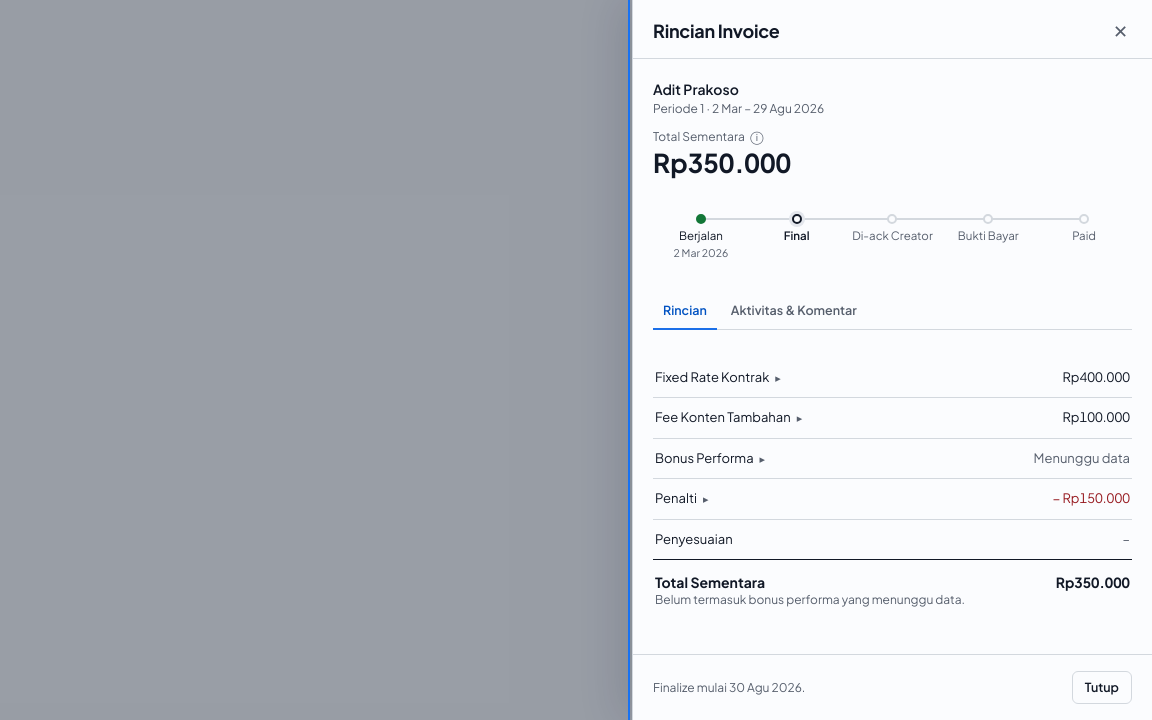
Scenario: InvoiceRincian › says a running invoice has no activity yet, above its thread
Click the tab "Aktivitas & Komentar" at (794,312), box [721,293,867,330]
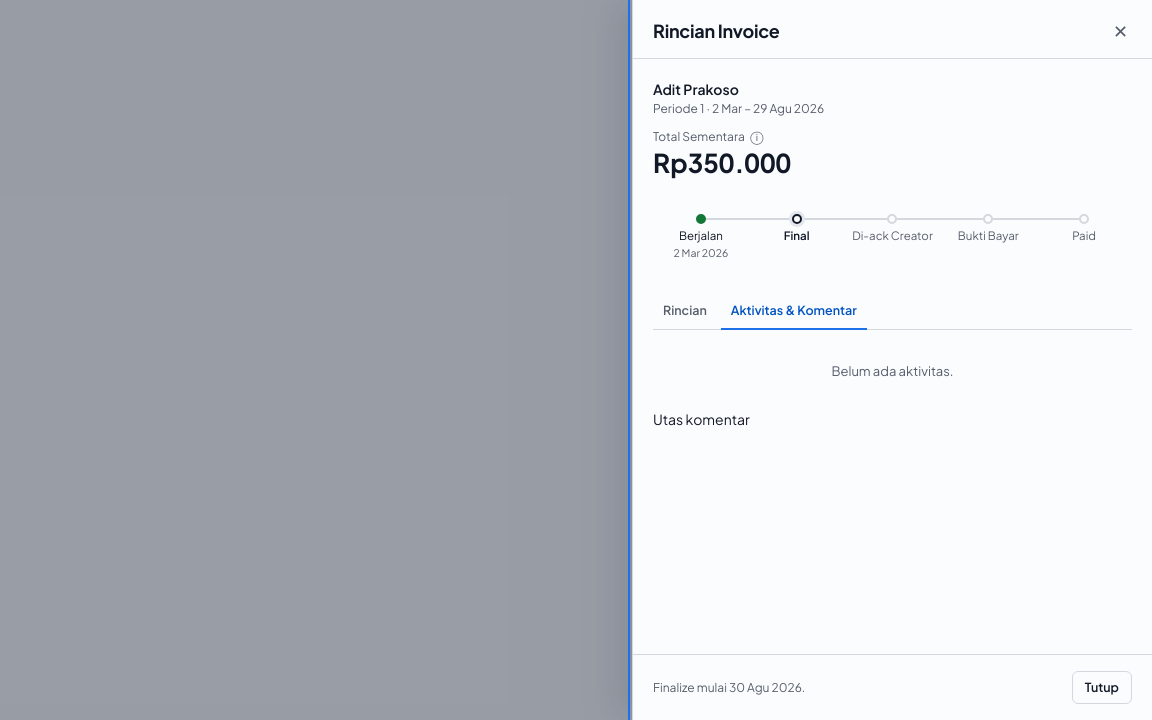
Expected: the text "Belum ada aktivitas." is shown, [831,363,954,379]
Expected: the text "Utas komentar" is shown, [653,410,750,428]
